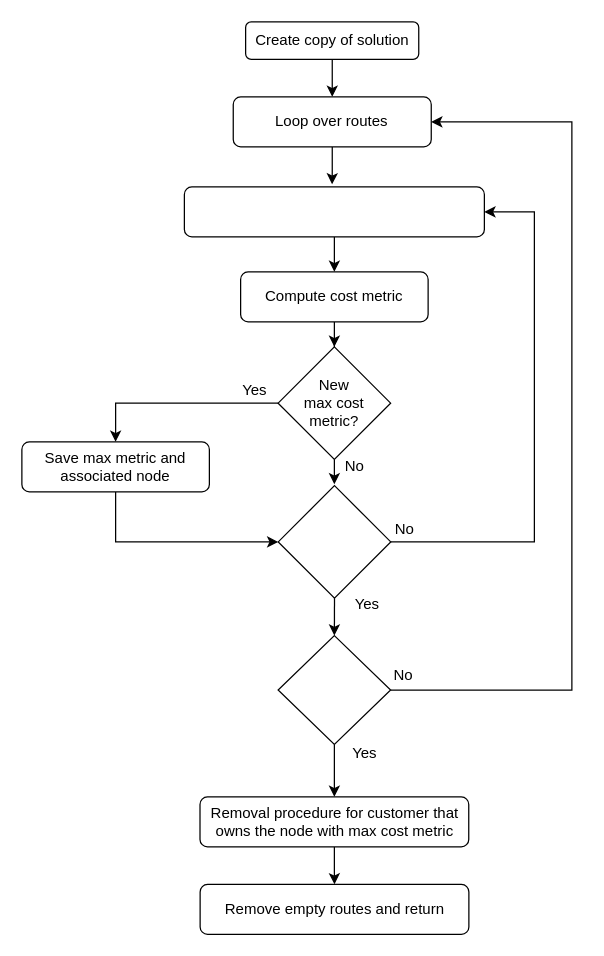
Image size: 604x956. Some labels were removed from this diagram. Each missing label, with the centre of its shape:
"Checked all routes?" goes at point (334, 689).
"Finished nodes of route?" goes at point (334, 541).
"Loop over nodes in current route" goes at point (333, 211).
